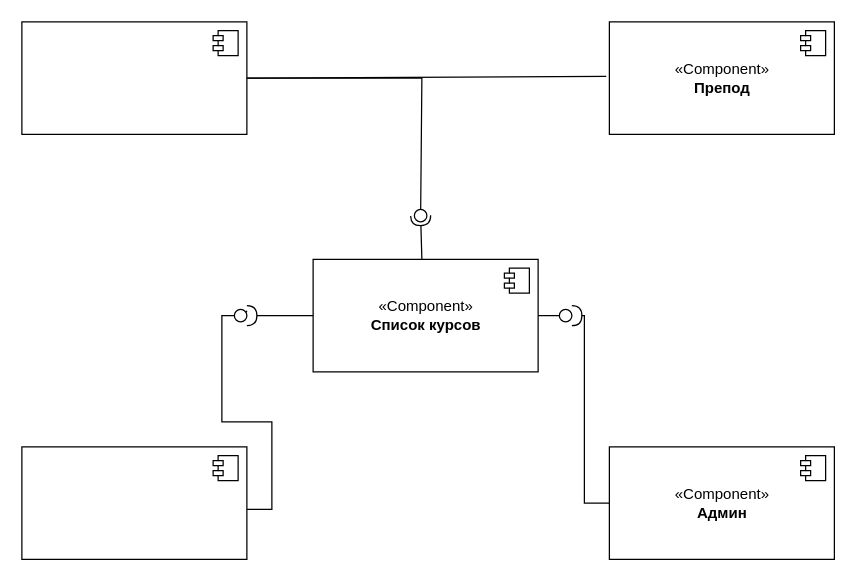
The diagram is 856 pixels wide and 581 high, and some of its shapes have lost their labels. Here are the shapes that lost their labels. From the top down, the box of each, then its label:
(21, 21, 247, 134): «Component» Студент
(21, 446, 247, 559): «Component» Курс
